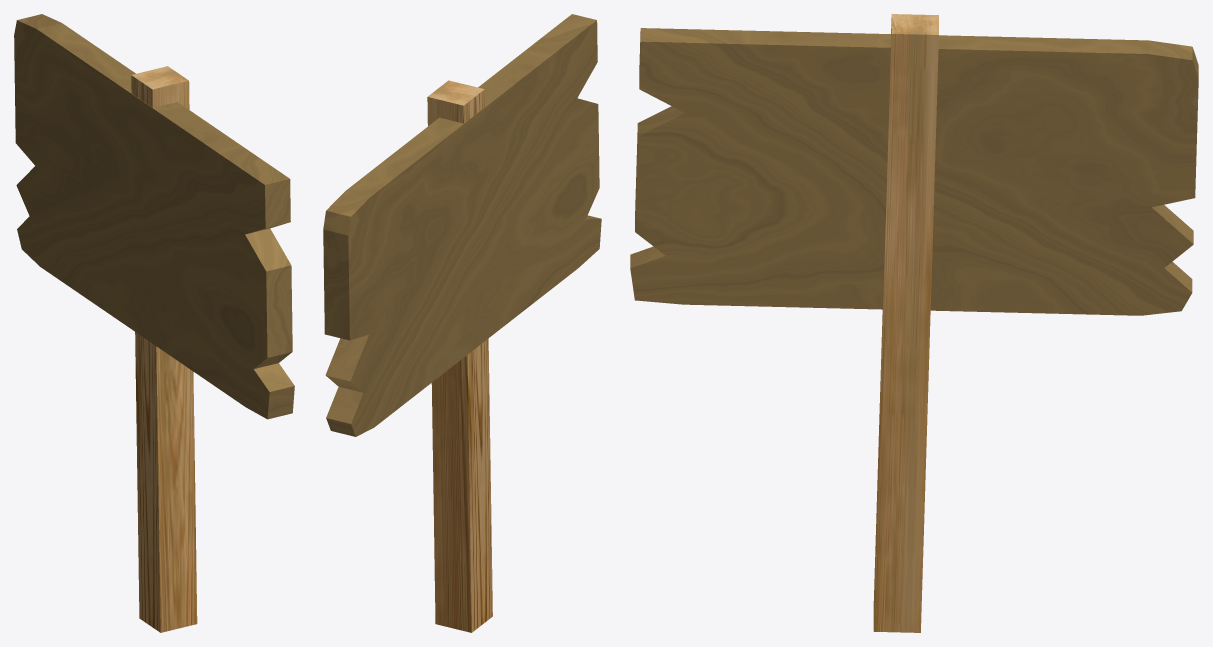
The model's file is Placa.fbx.
The picture shows the model from 3 angles, left to right: view 1: azimuth 30°, elevation 25°; view 2: azimuth 150°, elevation 25°; view 3: azimuth 270°, elevation 25°; orthographic projection. The views are drawn at different scales.
Parts seen in each view (by area): view 1: Cube, Cube.001; view 2: Cube, Cube.001; view 3: Cube, Cube.001.
Boxes of the visible parts, x1=… form: Cube: x1=14, y1=14, x2=294, y2=419; Cube.001: x1=131, y1=66, x2=197, y2=632; Cube: x1=323, y1=14, x2=601, y2=436; Cube.001: x1=427, y1=80, x2=492, y2=632; Cube: x1=630, y1=28, x2=1198, y2=315; Cube.001: x1=873, y1=14, x2=938, y2=632.
Size of the model in its own units: 32.92 by 458 by 394.
2 materials, 2 textured.
